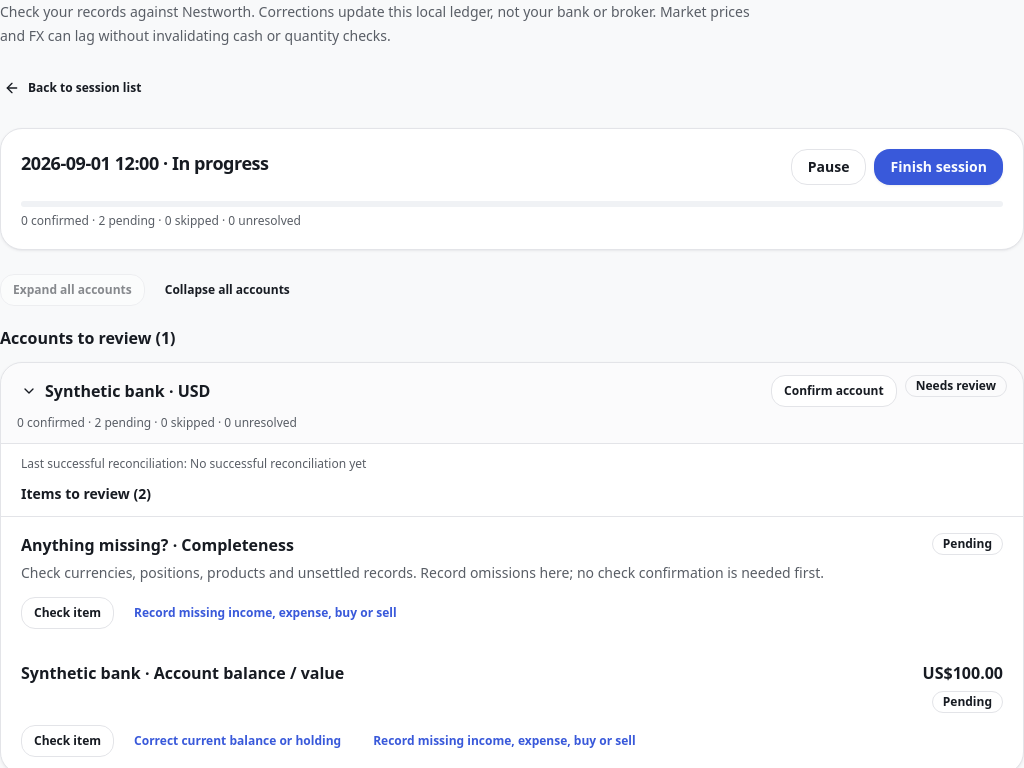
Test: does not reopen a closed sheet when its preview response arrives late
This screenshot has width=1024, height=768.
Click the button "Finish session" at (939, 167), box x1=874 y1=149 x2=1003 y2=185
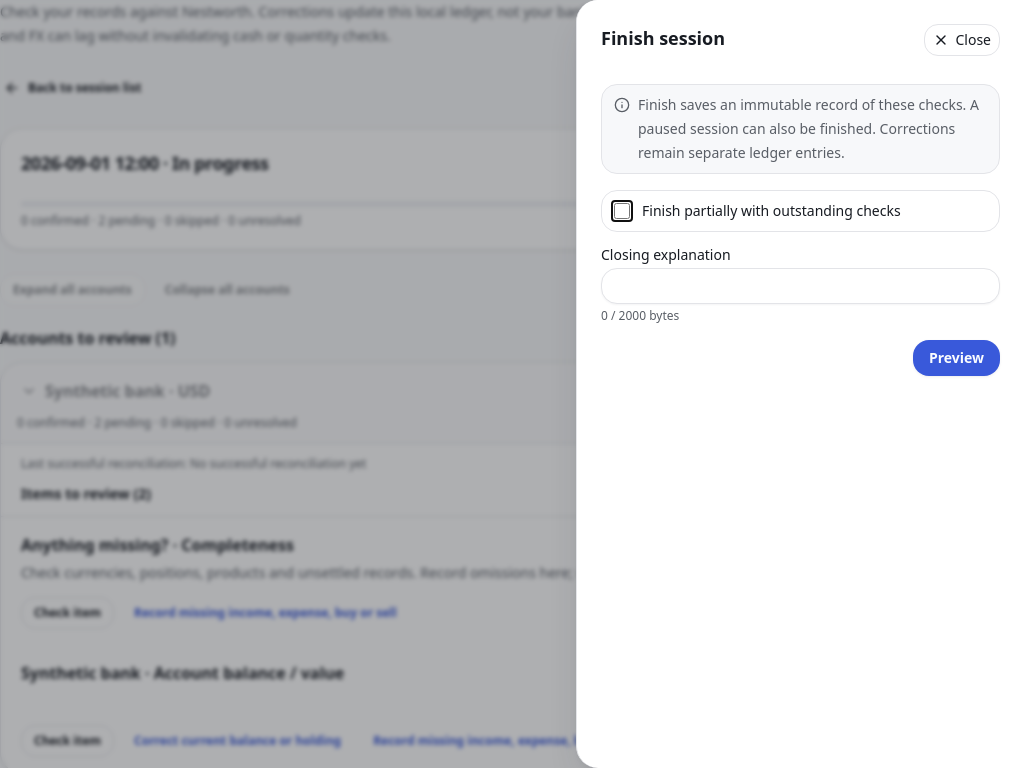
Click the button "Preview" at (956, 358), box x1=913 y1=340 x2=1000 y2=376
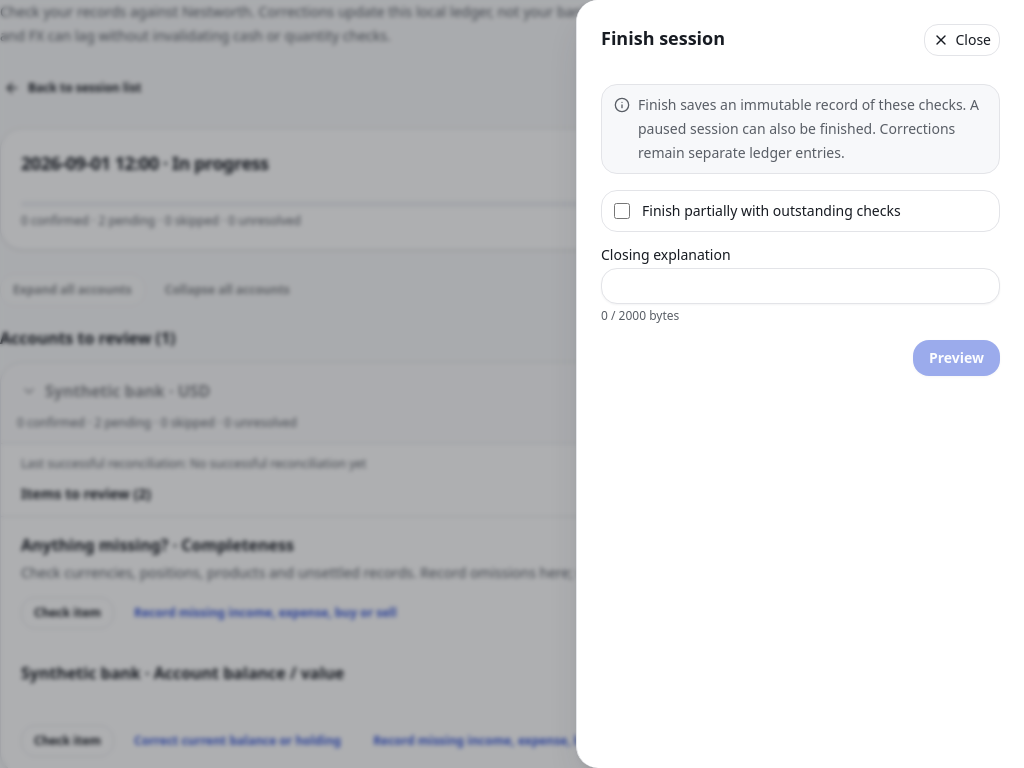
Press Escape
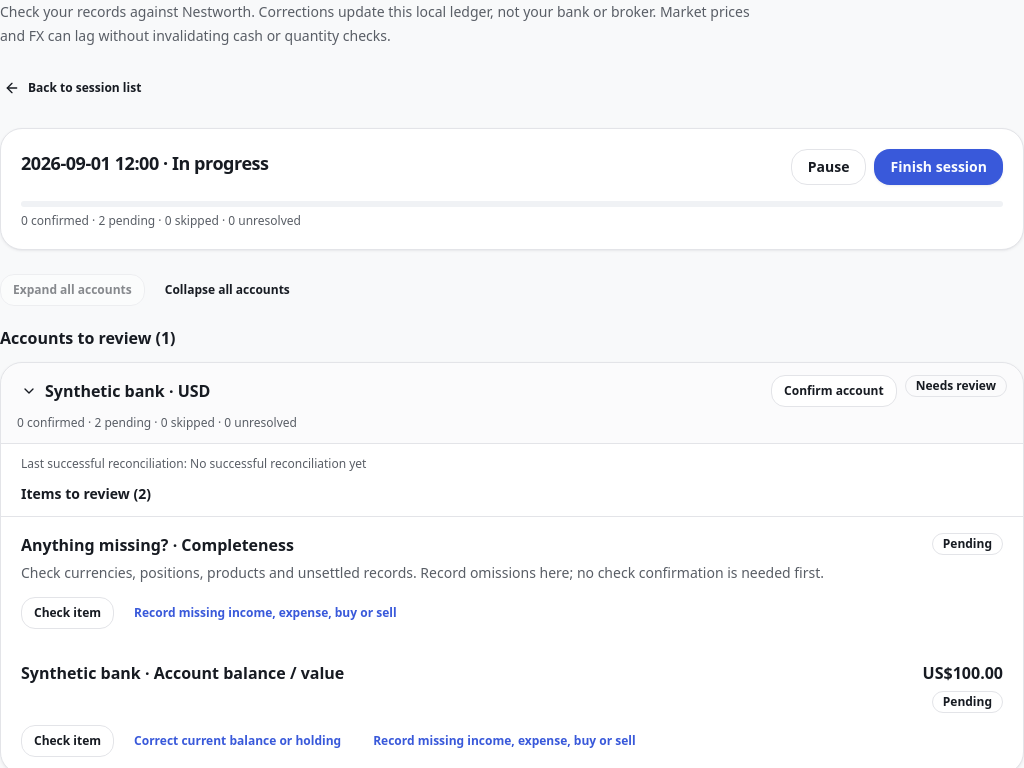
expect the dialog is gone: met
